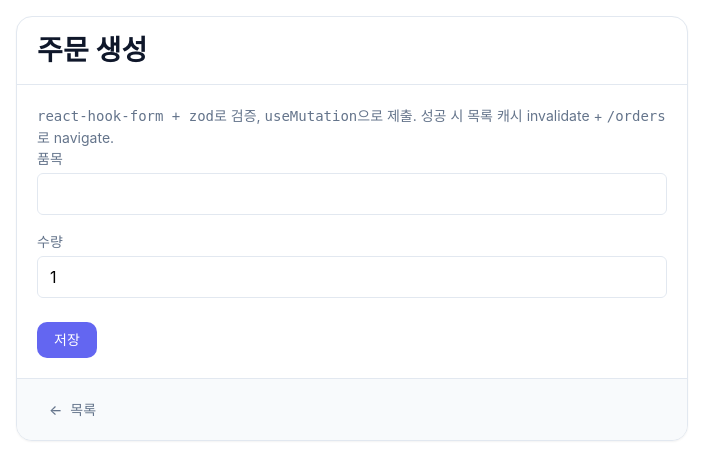
Test: OrderNewPage › 유효한 입력 → 제출하면 /orders로 이동하고 새 주문이 목록에 표시된다
Clear the number field labelled "수량" at (352, 277), box [37,256,667,298]
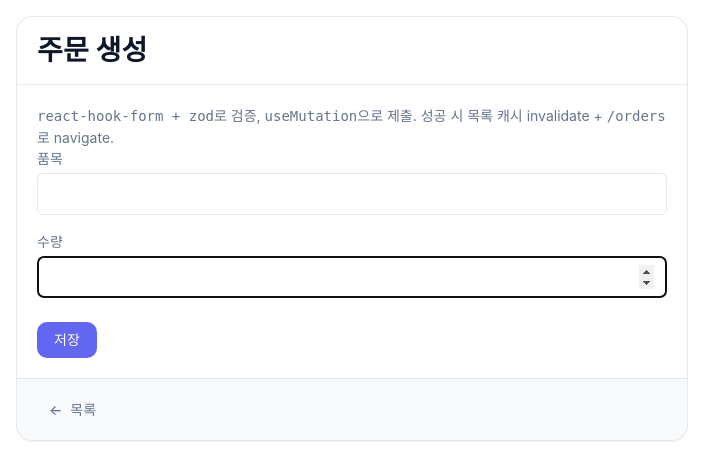
Type "아이패드" into the field labelled "품목" at (352, 194), box [37,173,667,215]
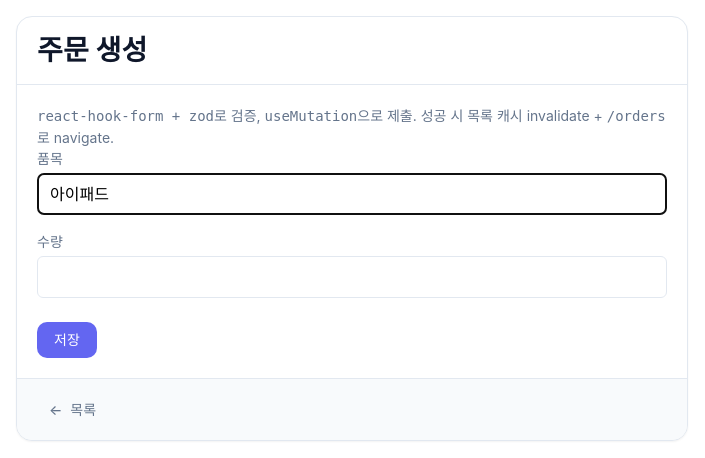
Type "3" into the number field labelled "수량" at (352, 277), box [37,256,667,298]
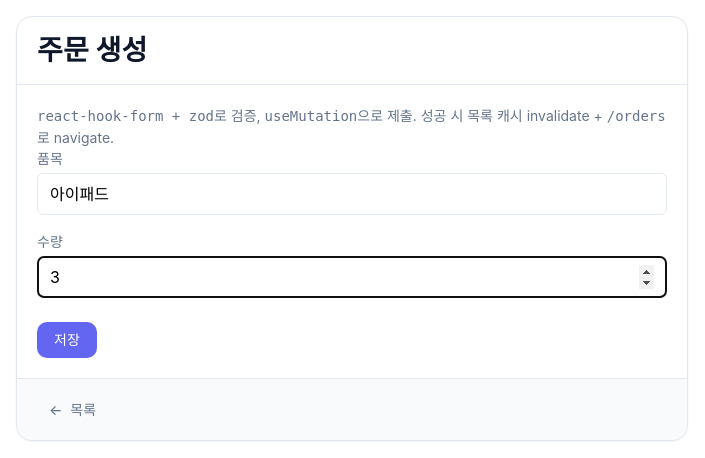
Click the button "저장" at (67, 340), box [37,322,97,358]
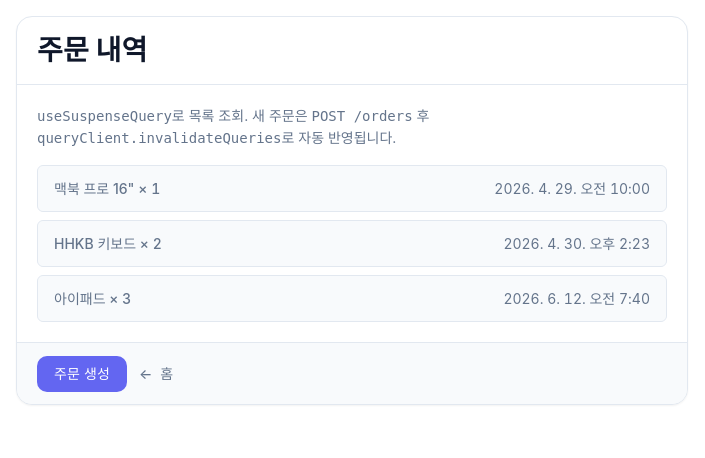
Expected: the text "아이패드 × 3" is shown, [54,288,131,309]
